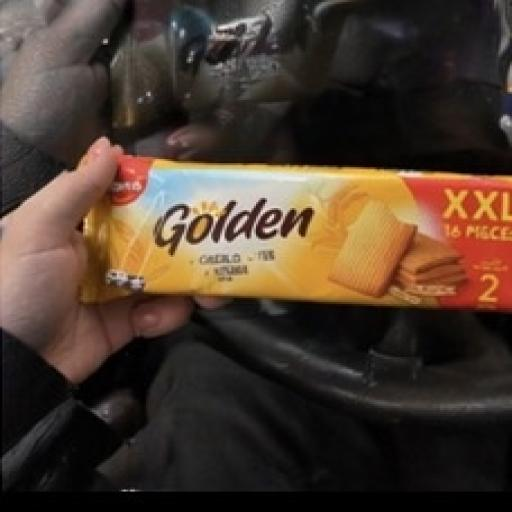golden: (47, 104, 512, 357)
